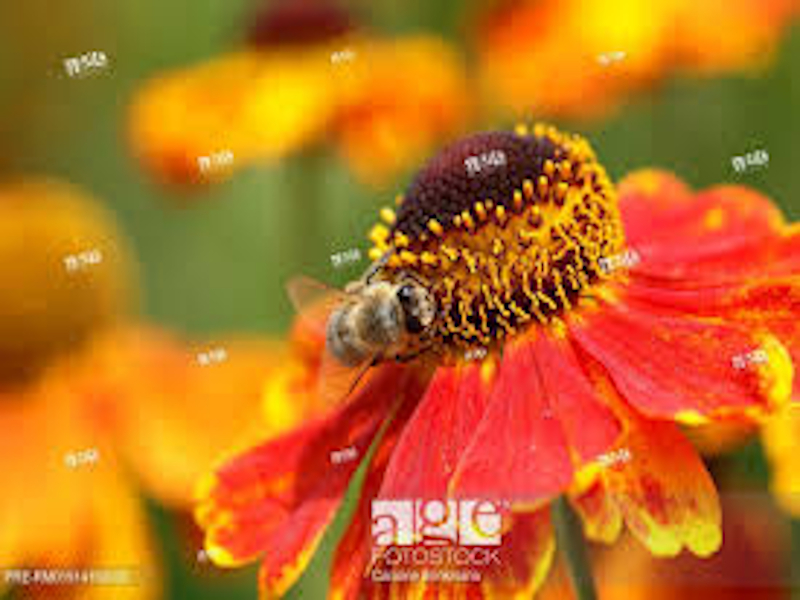abeja: (268, 242, 477, 415)
